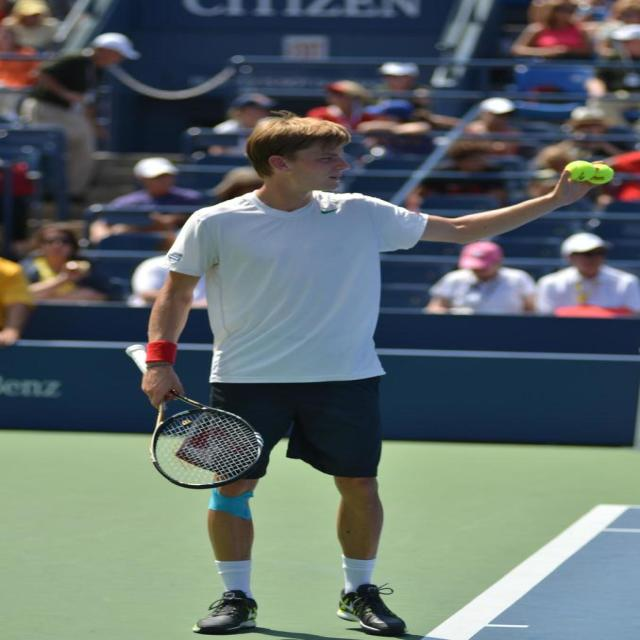Tennis ball: (564, 160, 596, 182), (594, 162, 614, 185)
